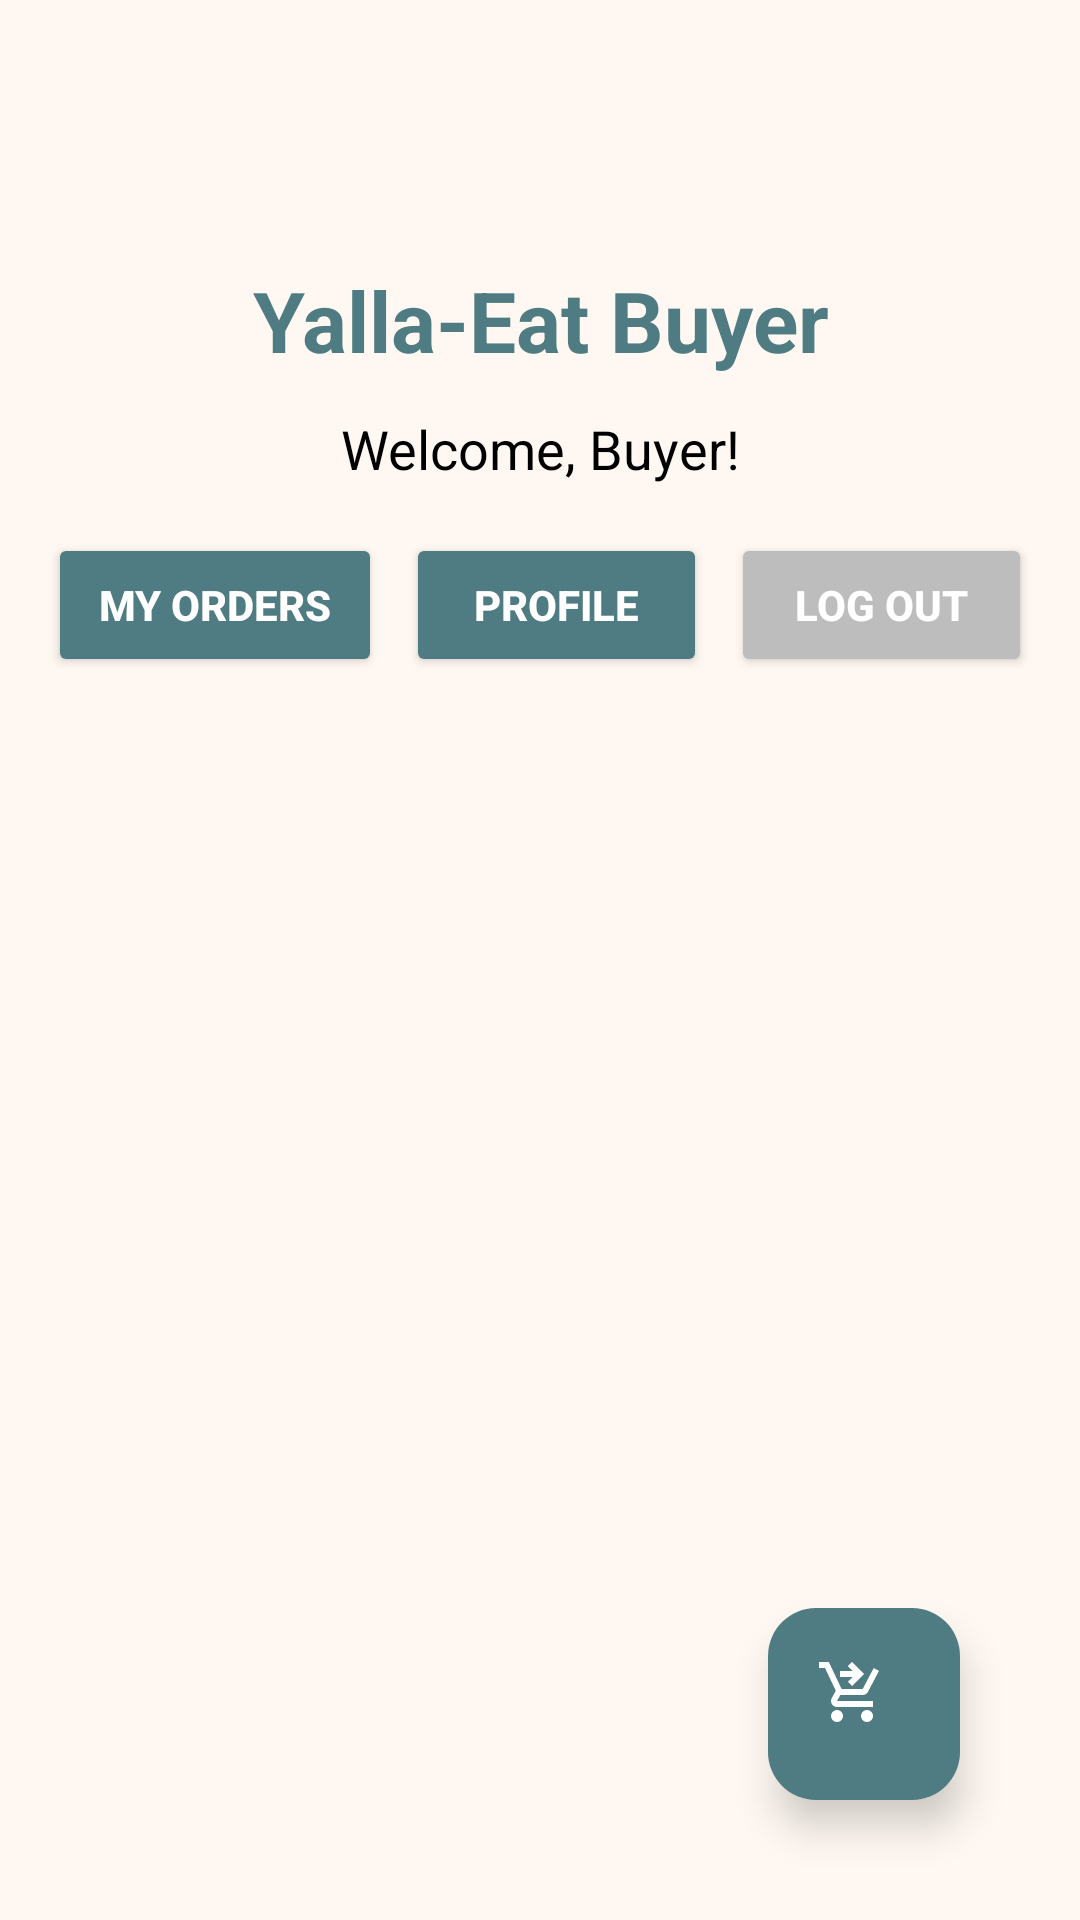

Point at icon controls on the screen. Image size 1080px x 1920px, points as (x,y).
Cart: (864,1704)
